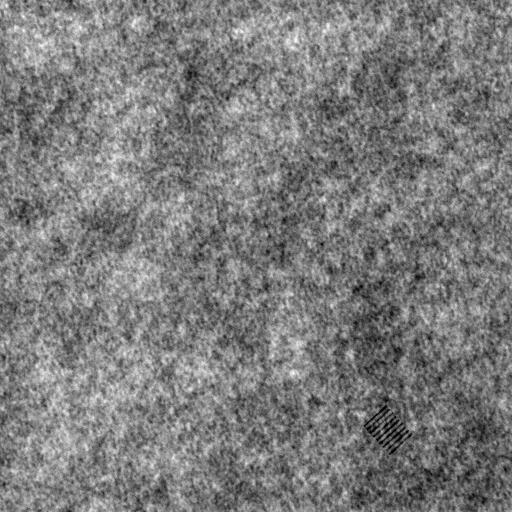impact: (361, 402, 415, 457)
